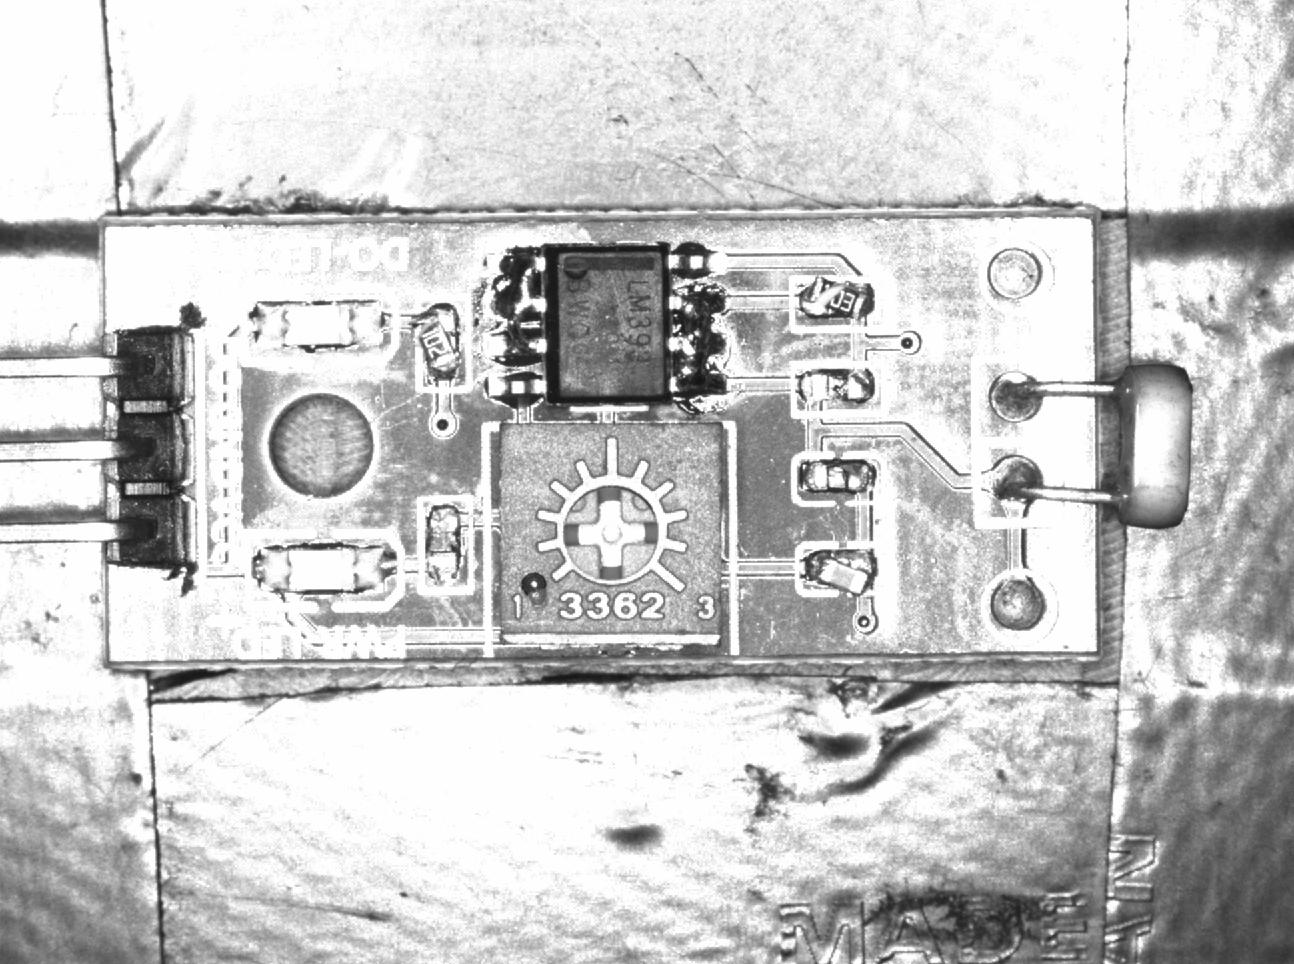bridge: (488, 245, 547, 370)
lifted: (786, 275, 881, 330), (416, 295, 469, 390), (795, 543, 885, 595)
miss: (667, 283, 730, 400), (416, 499, 472, 589), (793, 455, 884, 506), (793, 363, 885, 412)
